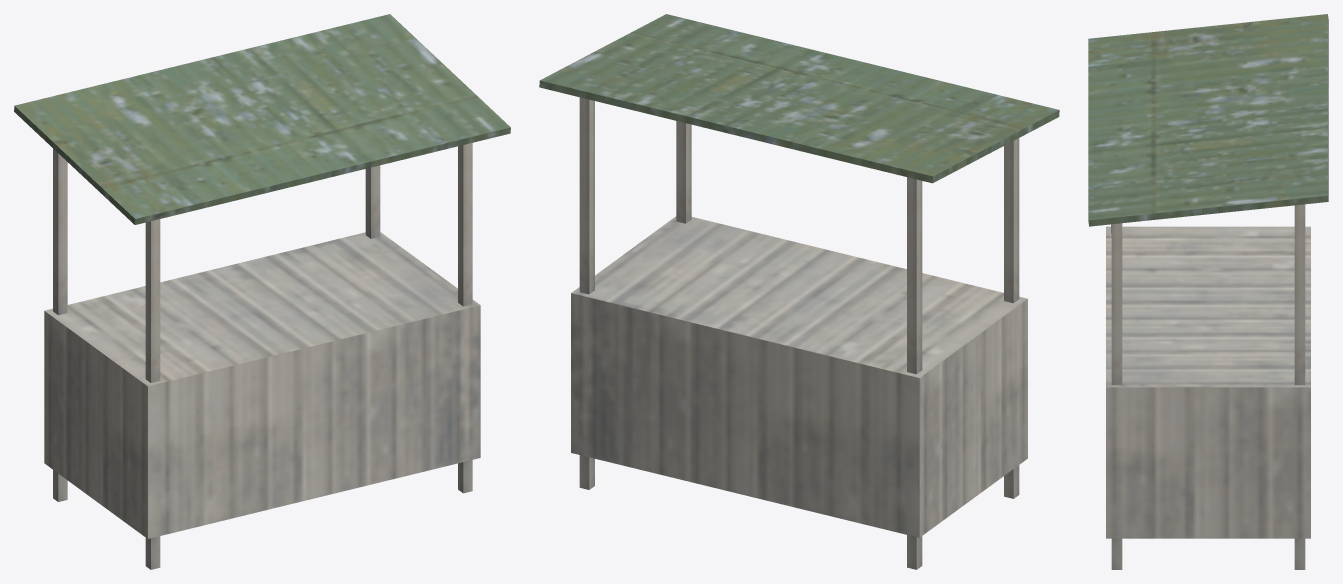
Rendered from MarketStall_2.fbx.
3 views of the same model, side by side, from view 1: azimuth 30°, elevation 25°; view 2: azimuth 150°, elevation 25°; view 3: azimuth 270°, elevation 25° (orthographic). The views are drawn at different scales.
Parts seen in each view (by area): view 1: MarketStall_2; view 2: MarketStall_2; view 3: MarketStall_2.
Part boxes in pixels (x1,y1,x2,y2): MarketStall_2: (14, 14, 510, 569); MarketStall_2: (539, 14, 1059, 569); MarketStall_2: (1088, 14, 1328, 569).
Size of the model in its own units: 226 by 224 by 126.
